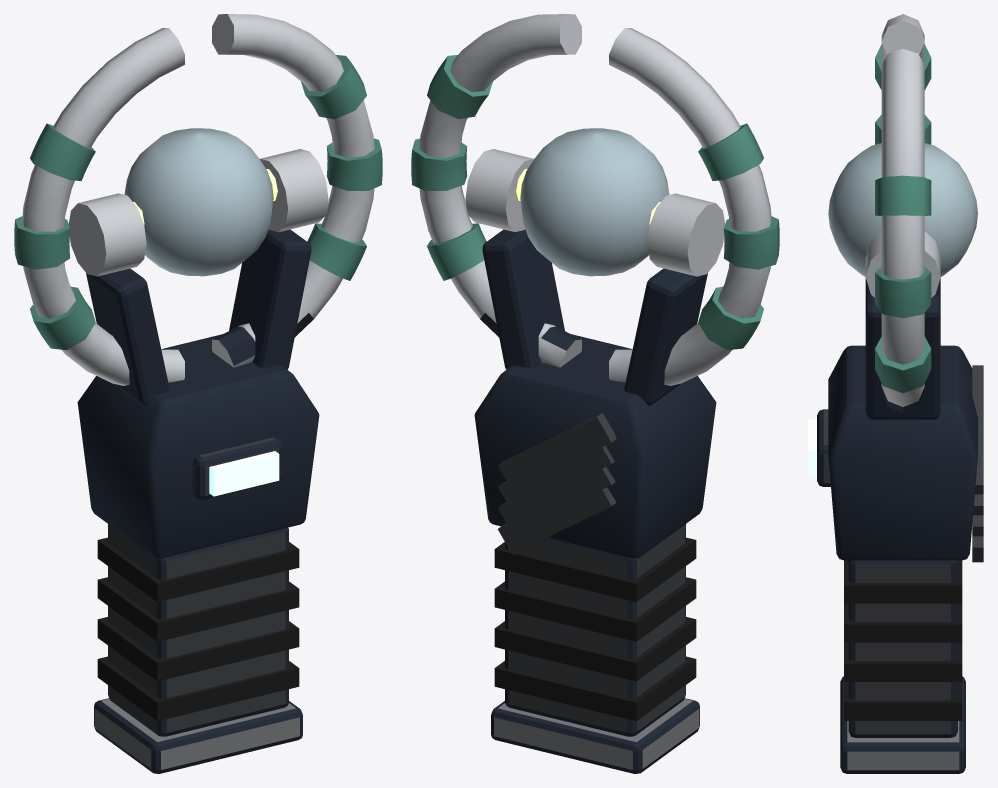
File: antigrav_emitter.fbx
3 views of the same model, side by side, from view 1: azimuth 30°, elevation 25°; view 2: azimuth 150°, elevation 25°; view 3: azimuth 270°, elevation 25° (orthographic).
Visible parts, largest first — view 1: Mesh_AntiGrav_Ring; view 2: Mesh_AntiGrav_Ring; view 3: Mesh_AntiGrav_Ring.
Part boxes in pixels (box(x1,y1,x2,y2)): Mesh_AntiGrav_Ring: box(14, 14, 382, 773); Mesh_AntiGrav_Ring: box(411, 14, 779, 773); Mesh_AntiGrav_Ring: box(808, 14, 983, 773).
Bounding box in the file's own units: 14.36 × 27.05 × 6.1.
